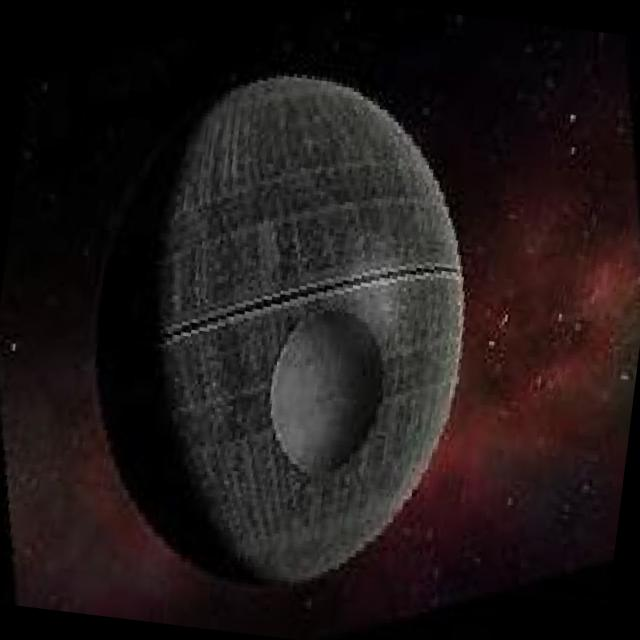Death Star: (56, 49, 492, 601)
